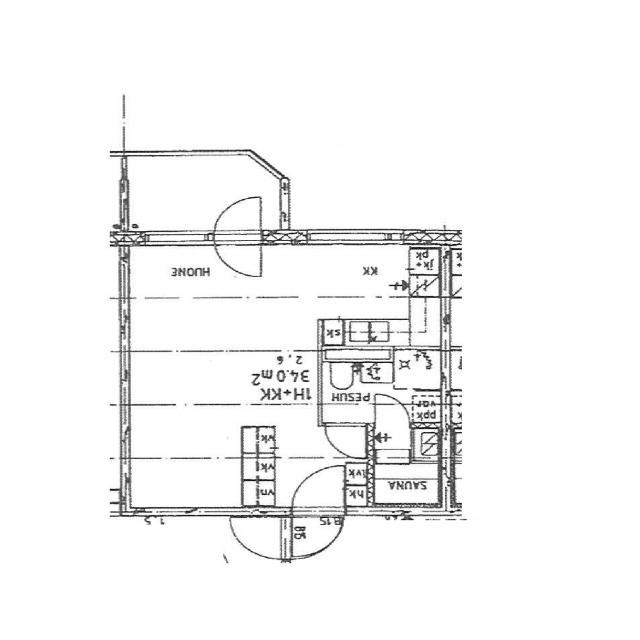door: (292, 507, 343, 558), (214, 230, 262, 284), (214, 191, 262, 245), (292, 465, 343, 515), (324, 423, 362, 458), (376, 395, 410, 428)
